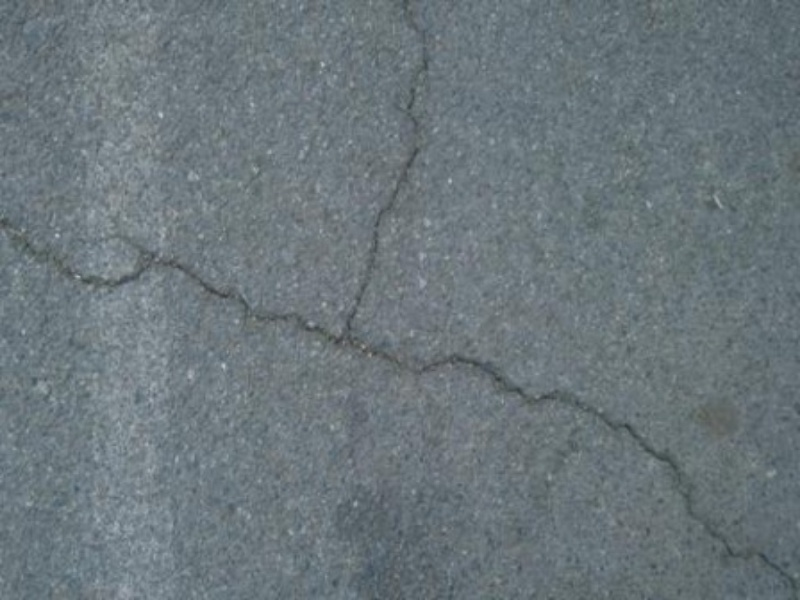crack: (6, 183, 797, 582), (351, 7, 433, 343)
